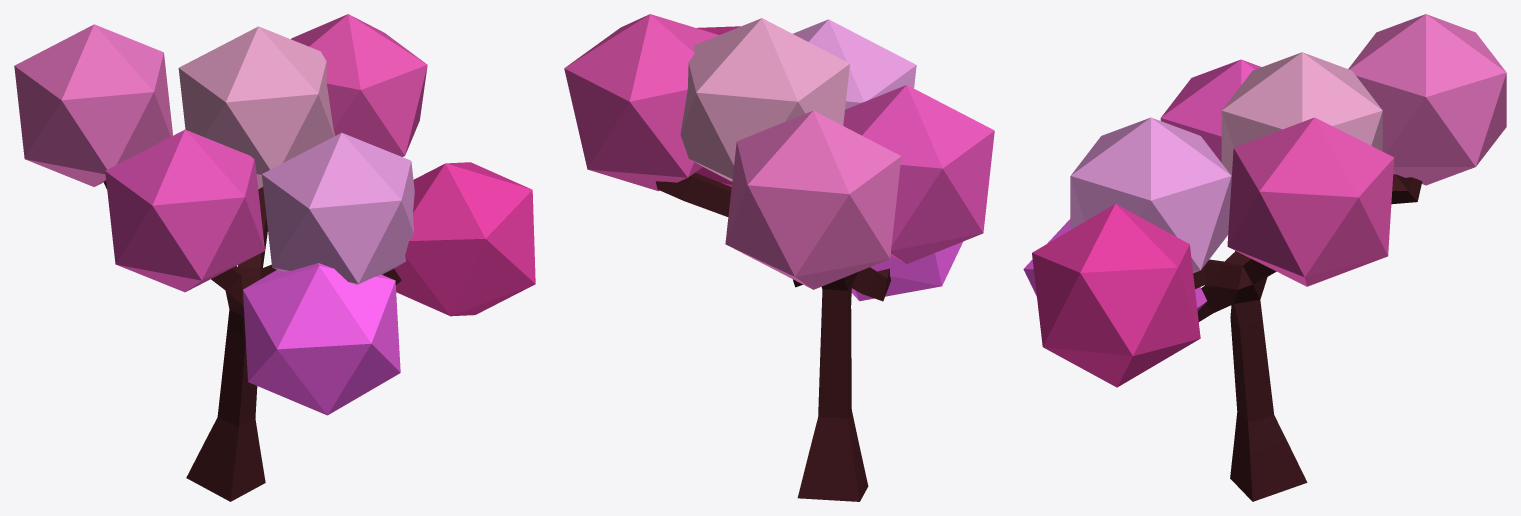
The model's file is tree2.fbx.
3 renders of one model, left to right at view 1: azimuth 30°, elevation 25°; view 2: azimuth 150°, elevation 25°; view 3: azimuth 270°, elevation 25°, orthographic. The views are drawn at different scales.
Visible parts, largest first — view 1: Icosphere.004, Icosphere.003, Icosphere, Icosphere.006, Icosphere.002, Icosphere.005, Icosphere.001, Cube; view 2: Icosphere, Icosphere.001, Icosphere.005, Icosphere.004, Cube, Icosphere.006, Icosphere.003, Icosphere.002; view 3: Icosphere.002, Icosphere.001, Icosphere, Icosphere.006, Cube, Icosphere.005, Icosphere.004, Icosphere.003.
Boxes of the visible parts, <box> form: Icosphere.004: <box>105,129,264,292</box>; Icosphere.003: <box>243,263,400,415</box>; Icosphere: <box>14,24,172,186</box>; Icosphere.006: <box>261,132,414,284</box>; Icosphere.002: <box>394,162,535,316</box>; Icosphere.005: <box>178,26,334,189</box>; Icosphere.001: <box>291,14,427,156</box>; Cube: <box>103,180,401,501</box>; Icosphere: <box>725,110,901,289</box>; Icosphere.001: <box>564,14,718,191</box>; Icosphere.005: <box>680,18,849,181</box>; Icosphere.004: <box>843,85,994,263</box>; Cube: <box>655,173,890,501</box>; Icosphere.006: <box>793,19,916,109</box>; Icosphere.003: <box>851,242,962,301</box>; Icosphere.002: <box>695,26,740,186</box>; Icosphere.002: <box>1032,204,1200,387</box>; Icosphere.001: <box>1227,117,1394,286</box>; Icosphere: <box>1348,14,1506,185</box>; Icosphere.006: <box>1070,117,1231,272</box>; Cube: <box>1193,173,1422,501</box>; Icosphere.005: <box>1221,52,1382,176</box>; Icosphere.004: <box>1160,59,1261,162</box>; Icosphere.003: <box>1023,219,1206,310</box>.
Size of the model in its own units: 466 by 534 by 511.
